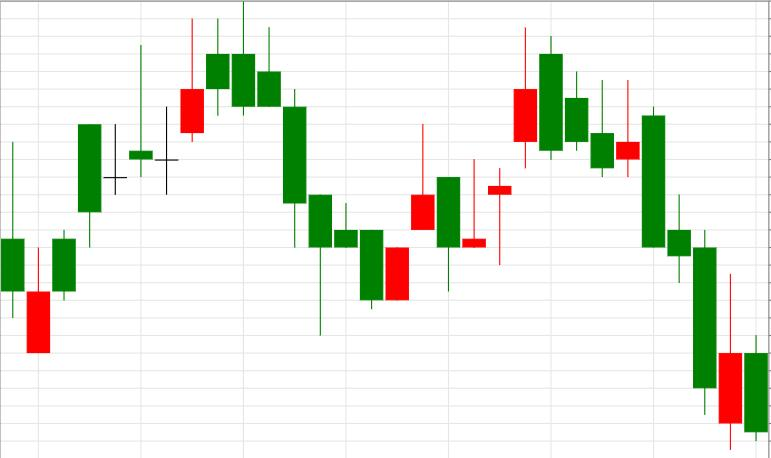shooting_star_fall: (26, 18, 204, 352)
